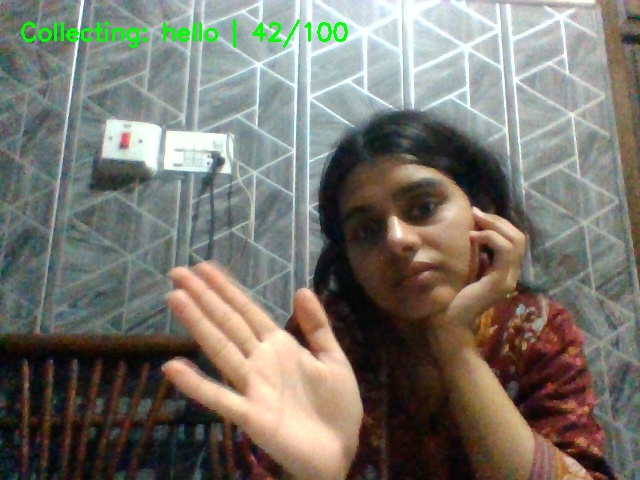hello: (135, 257, 373, 472)
